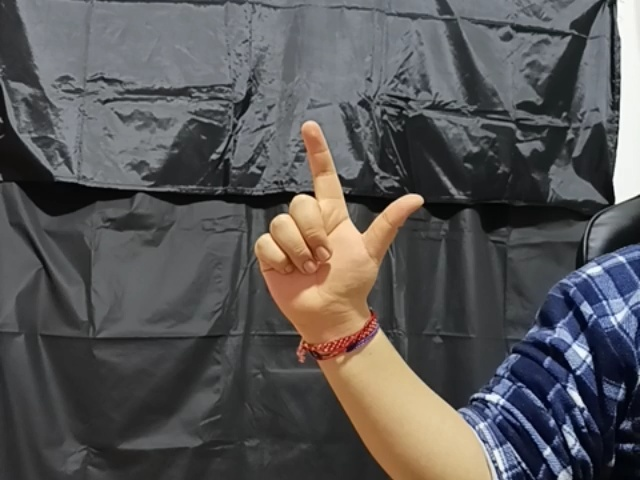L: (247, 119, 425, 313)
